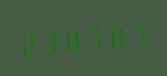eight: (62, 21, 83, 55), (106, 18, 127, 52)
seven: (84, 20, 105, 54), (128, 16, 149, 50)
three: (39, 23, 60, 57)
two: (17, 25, 38, 59)
